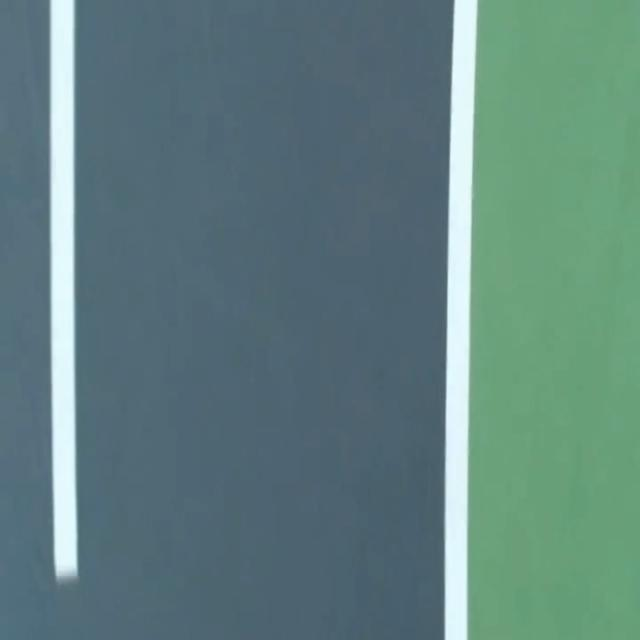center: (50, 0, 77, 581)
right: (444, 0, 476, 639)
